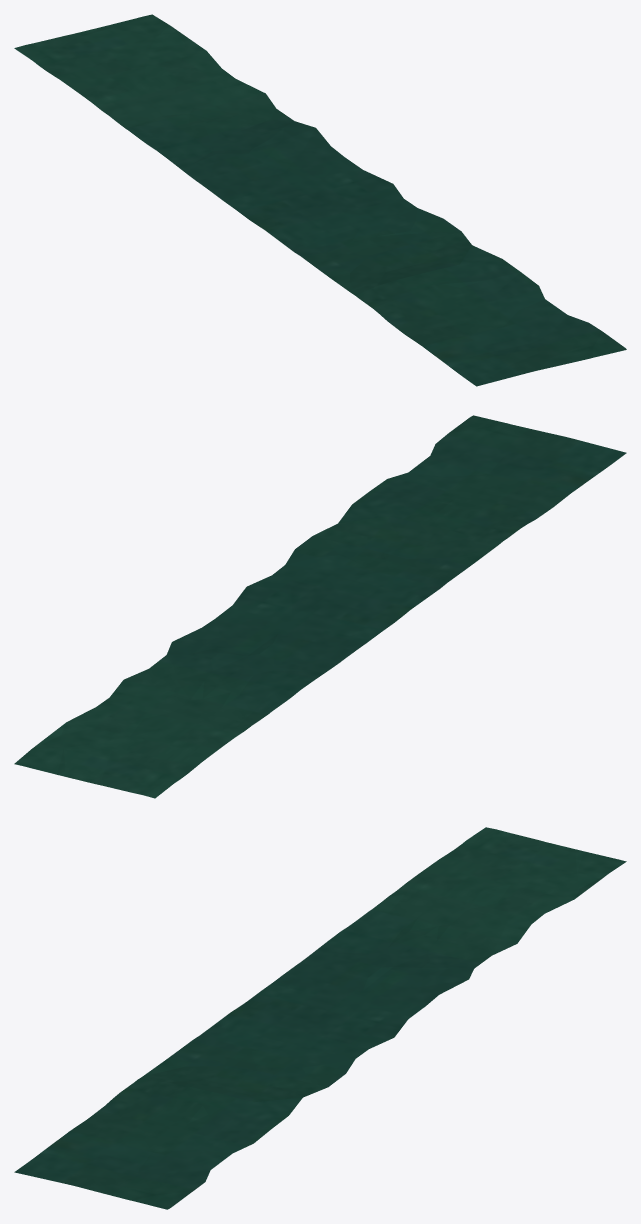
3 views of the same model, one above another, from view 1: azimuth 30°, elevation 25°; view 2: azimuth 150°, elevation 25°; view 3: azimuth 330°, elevation 25° (orthographic). The views are drawn at different scales.
Bounding box in the file's own units: 19.7 × 0.7116 × 104.
1 material, 1 textured.
